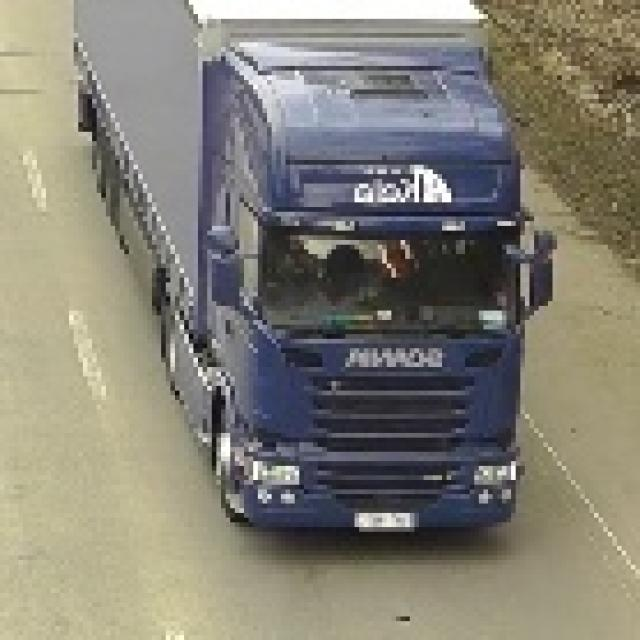TRUCK: (175, 0, 541, 538)
